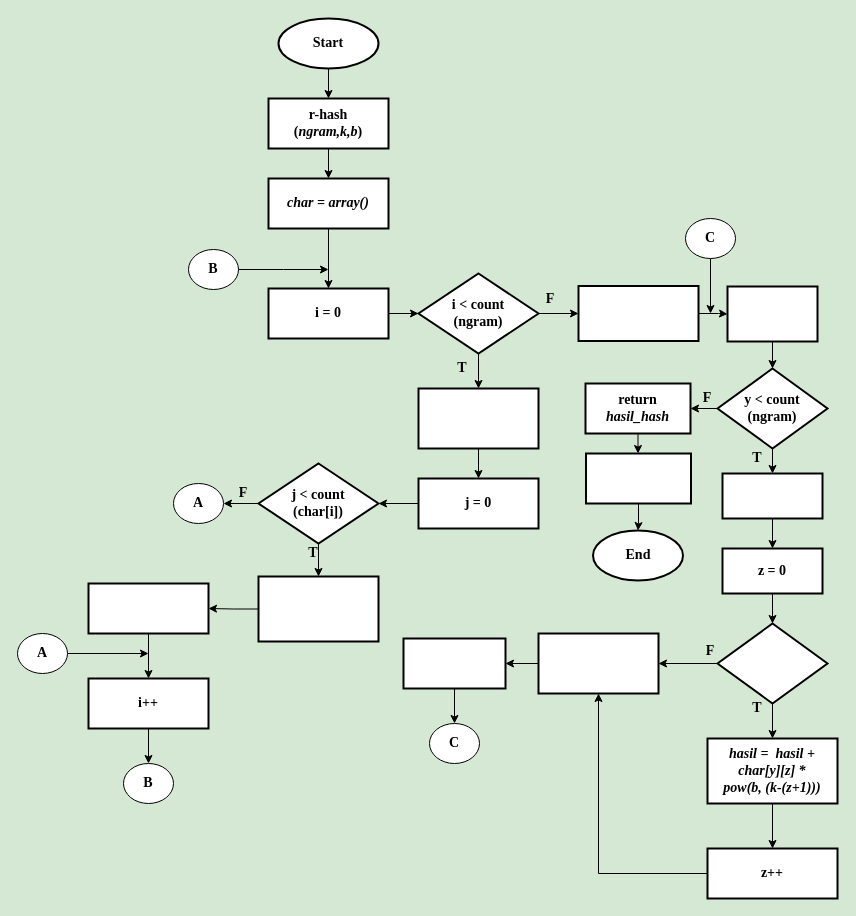
Some shapes in this 856 by 916 pixel diagram are drawn without their labels. Here are the shapes that lost their labels. From the top down, the box of each, then its label:
(577, 284, 699, 342): hasil_hash = array()
(726, 285, 818, 342): y= 0
(417, 387, 539, 449): char[i] = str_split(ngram[i])
(584, 452, 692, 504): Simpan hasil_hash(hash)
(721, 472, 823, 519): hasil = 0
(87, 582, 209, 634): j++
(257, 575, 379, 642): char[i][j] = ord (char[i][j])
(402, 637, 506, 689): y++
(537, 632, 659, 694): hasil_hash[y] = hasil
(716, 622, 828, 704): z < count (char[y])
